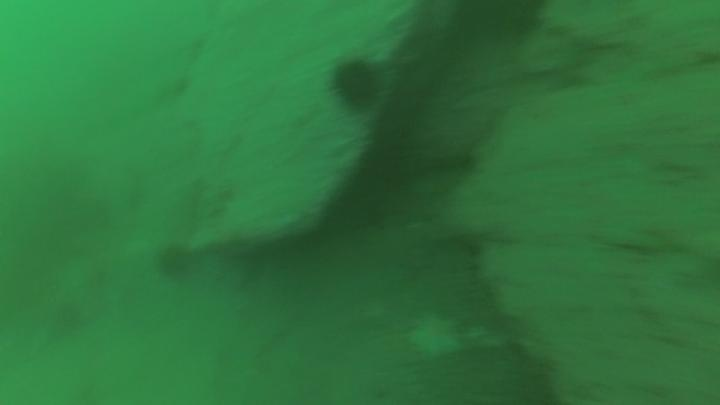echinus: (328, 55, 383, 112), (153, 241, 197, 284)
starfish: (404, 309, 465, 362)
